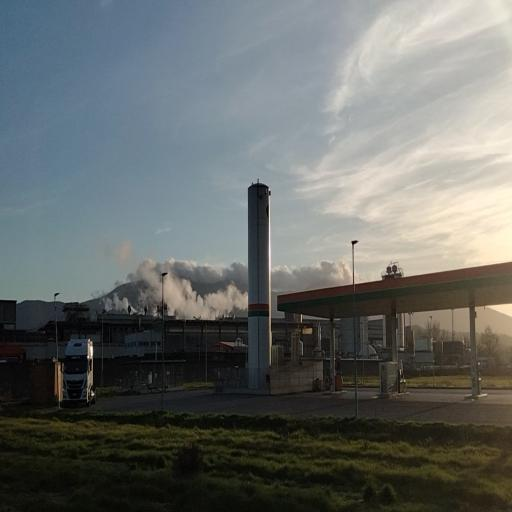leakage: (101, 237, 249, 323)
